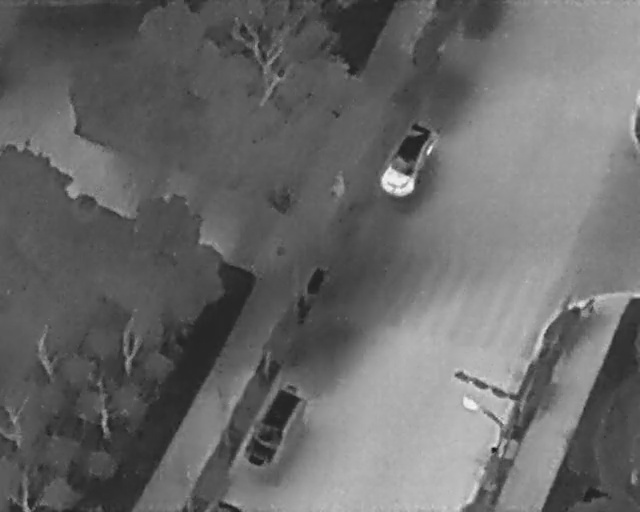Car: (234, 373, 313, 476), (371, 113, 444, 207)
